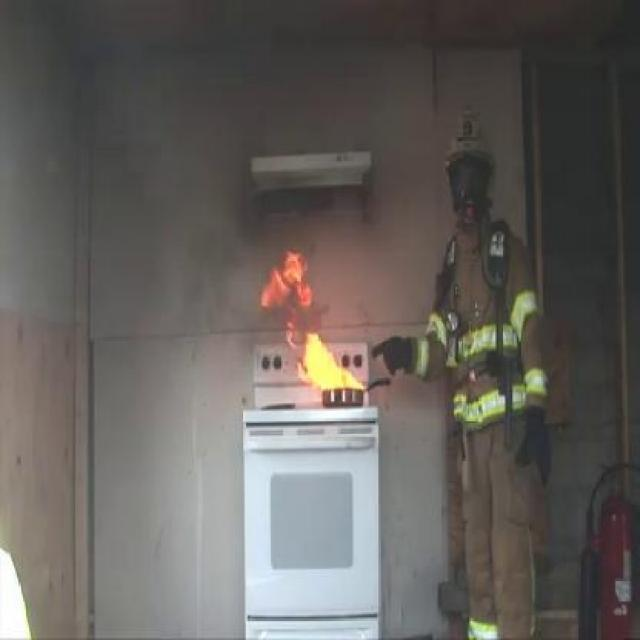fire: (288, 326, 364, 388), (257, 244, 314, 318)
